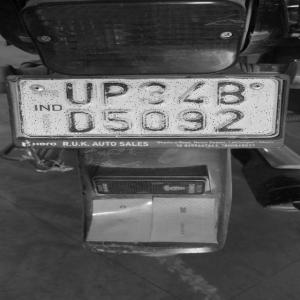Plate: (19, 79, 274, 135)
